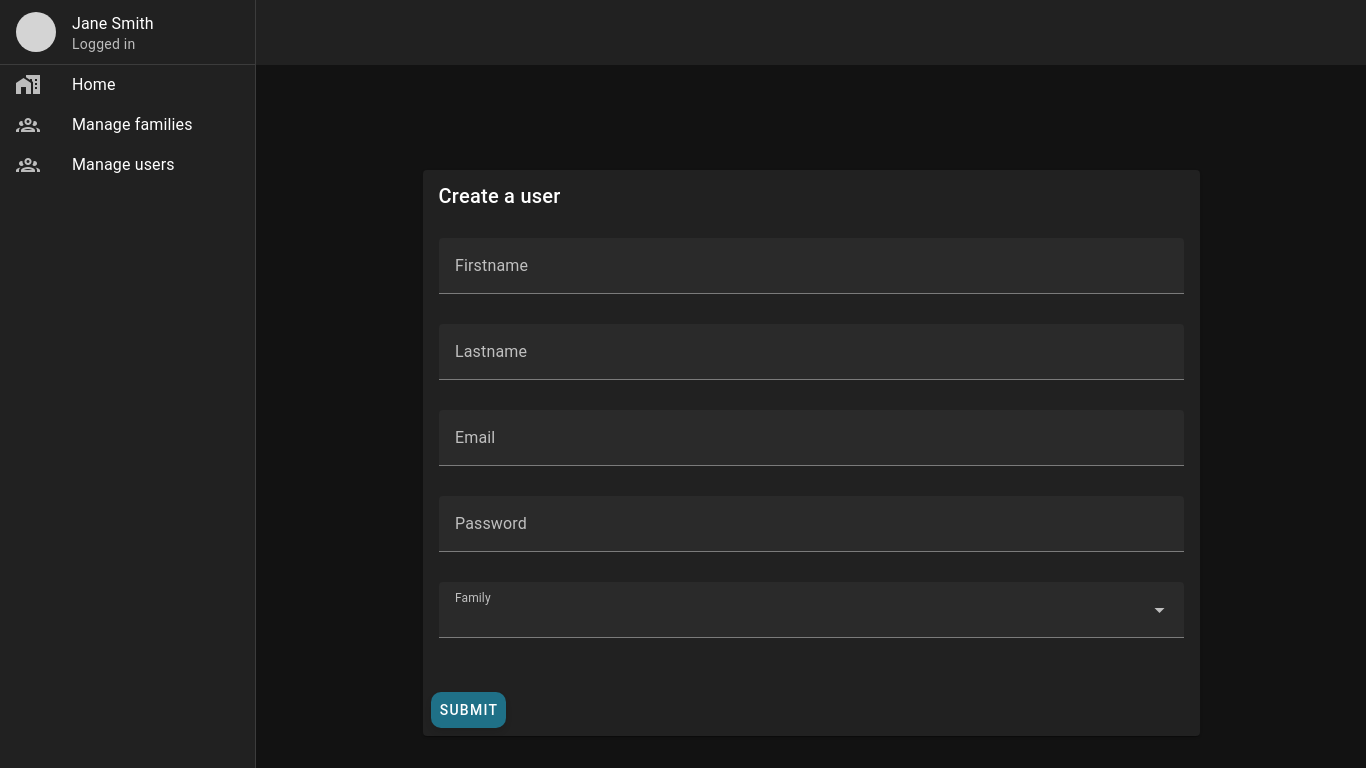
Create User Page › should load families into the select dropdown
The width and height of the screenshot is (1366, 768).
Open de dropdown en controleer dat families zichtbaar zijn
What coordinates should you click on to do the following:
click the element showing "Family"
I would click on:
 (812, 621)
Its box is [439,582,1184,660].
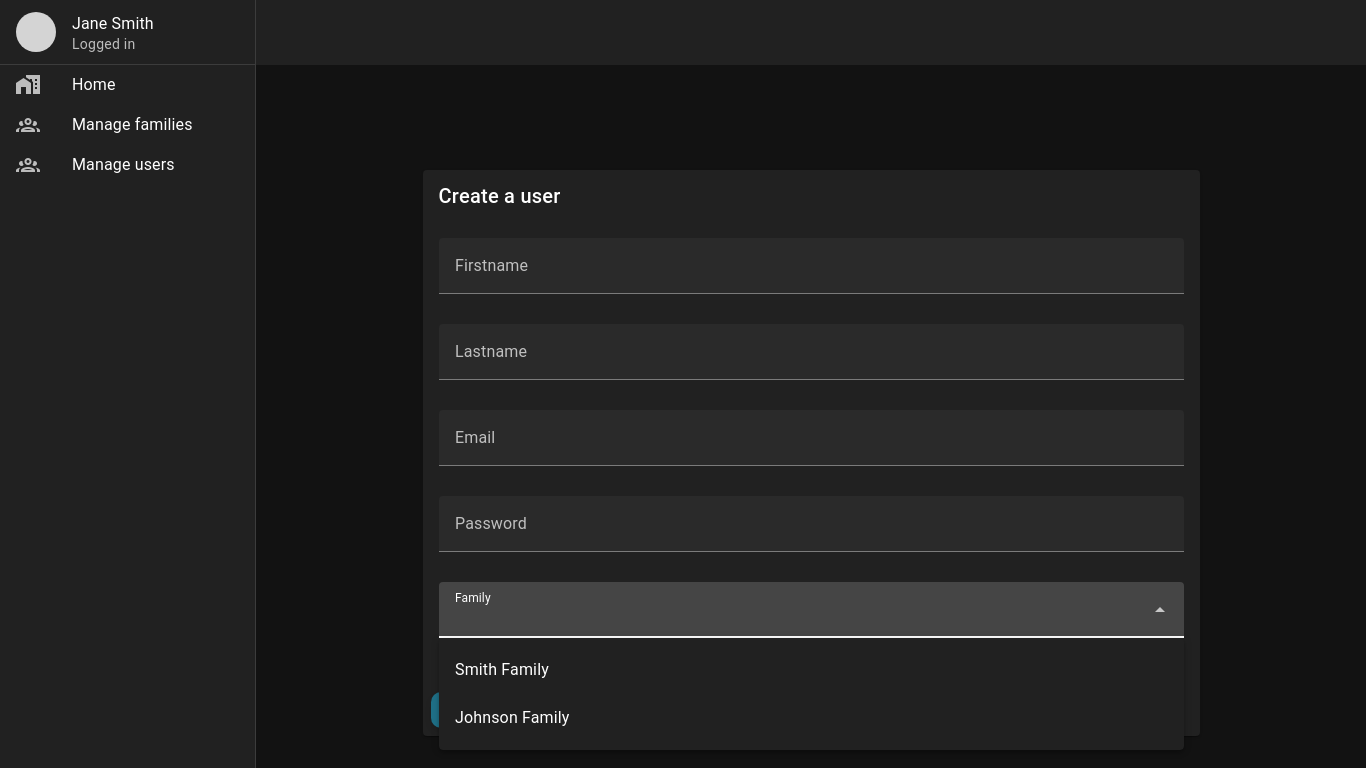
Now the option "Smith Family" is shown, box [455,660,549,679]
Now the option "Johnson Family" is shown, box [455,708,570,727]
